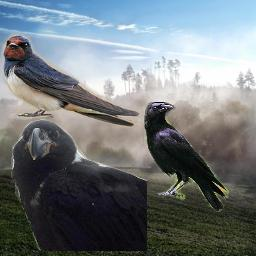Crow: (10, 119, 147, 251), (144, 102, 229, 212)
Swallow: (1, 32, 182, 141)
